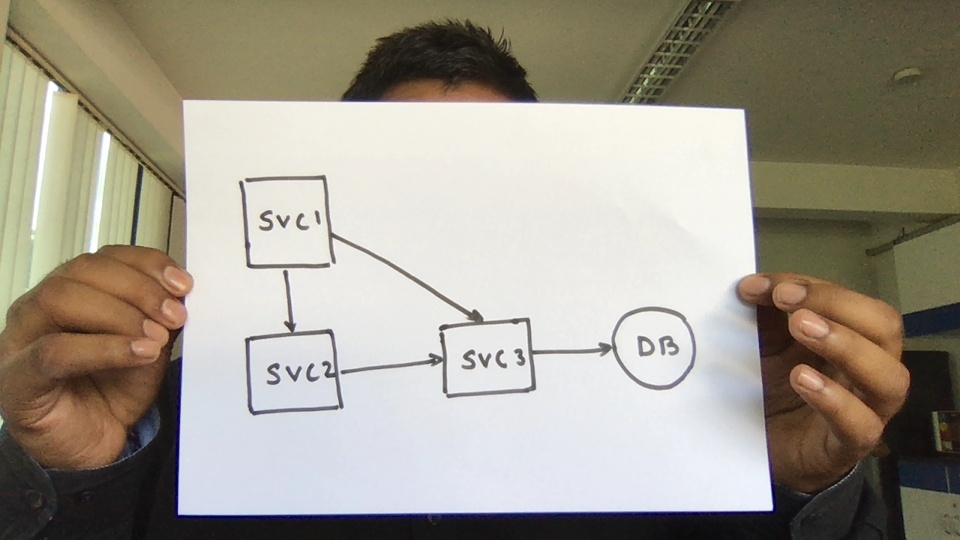db: (609, 302, 701, 399)
ec2: (235, 169, 341, 275), (239, 323, 351, 420), (428, 311, 540, 408)
